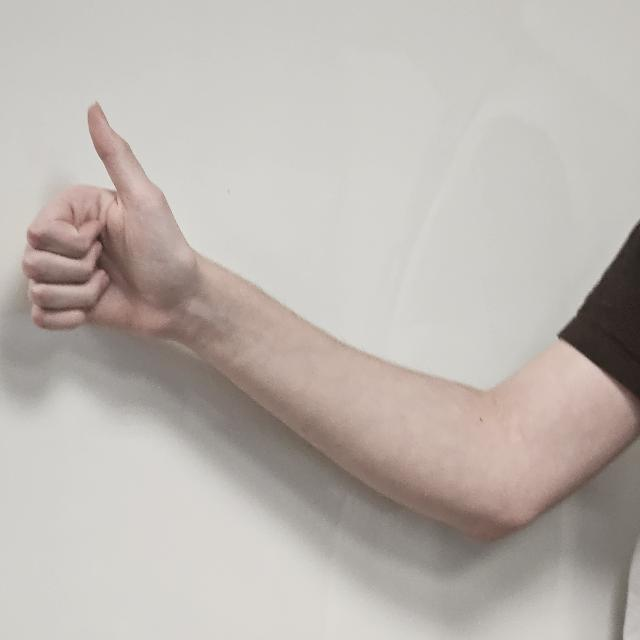Start: (25, 101, 201, 372)
